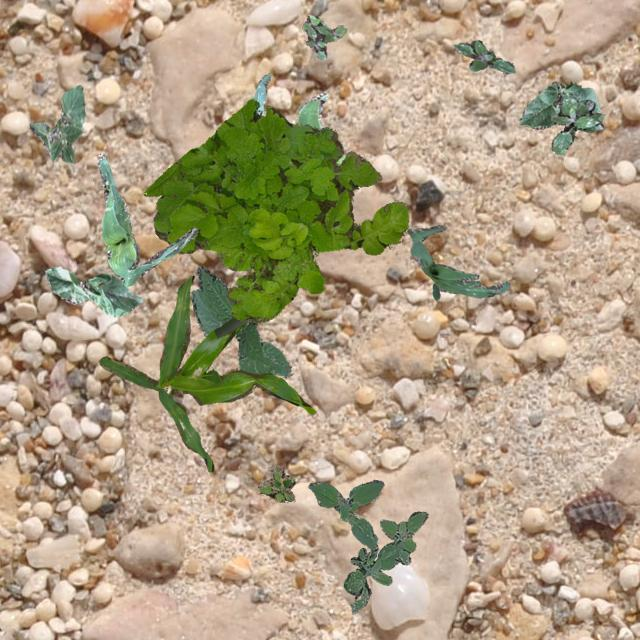crop: (98, 274, 314, 470), (96, 152, 196, 286), (190, 266, 292, 376), (252, 72, 344, 165), (406, 224, 508, 298), (45, 266, 142, 316), (28, 84, 84, 162), (518, 80, 602, 130)
weed: (142, 98, 408, 322), (308, 478, 427, 612), (550, 92, 602, 154), (302, 12, 346, 58), (452, 40, 514, 72), (256, 464, 294, 502)
